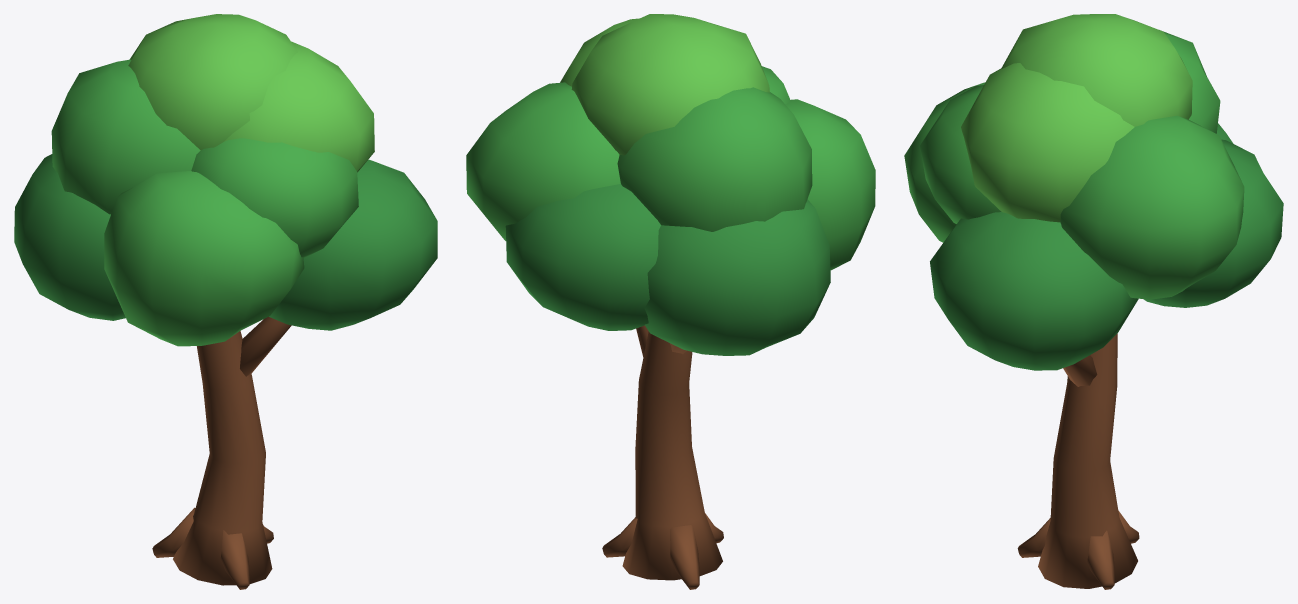
Rendered from pixar_tree_lush.glb.
3 renders of one model, left to right at view 1: azimuth 30°, elevation 25°; view 2: azimuth 150°, elevation 25°; view 3: azimuth 270°, elevation 25°, orthographic.
Visible parts, largest first — view 1: pixar_tree_lush; view 2: pixar_tree_lush; view 3: pixar_tree_lush.
Boxes of the visible parts, <box> form: pixar_tree_lush: <box>14,14,437,589</box>; pixar_tree_lush: <box>466,14,875,589</box>; pixar_tree_lush: <box>904,14,1283,589</box>.
Size of the model in its own units: 5.12 by 7.67 by 4.83.
